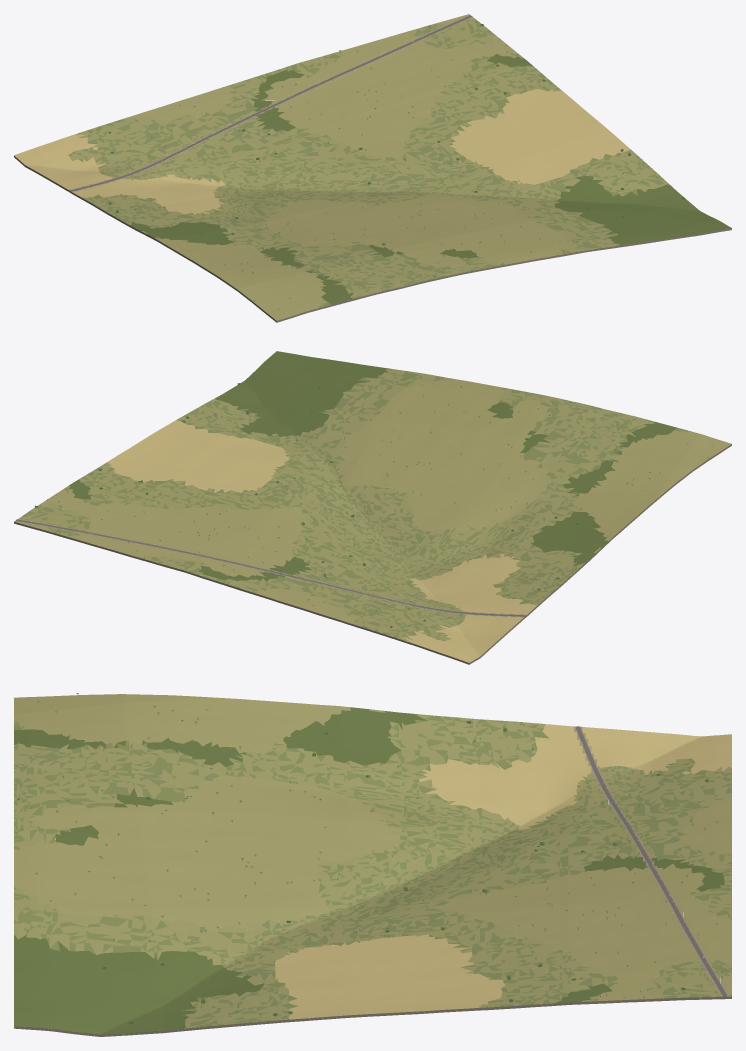
File: parca_-1_-3-yakin.glb
The picture shows the model from 3 angles, top to bottom: view 1: azimuth 30°, elevation 25°; view 2: azimuth 150°, elevation 25°; view 3: azimuth 270°, elevation 25°; orthographic projection. The views are drawn at different scales.
Parts seen in each view (by area): view 1: parca_-1_-3_arazi, parca_-1_-3_yollar, parca_-1_-3_bitkiler; view 2: parca_-1_-3_arazi, parca_-1_-3_yollar, parca_-1_-3_bitkiler; view 3: parca_-1_-3_arazi, parca_-1_-3_yollar, parca_-1_-3_bitkiler.
Part boxes in pixels (<box>): parca_-1_-3_arazi: <box>14,14,731,322</box>; parca_-1_-3_yollar: <box>70,15,472,191</box>; parca_-1_-3_bitkiler: <box>90,24,685,309</box>; parca_-1_-3_arazi: <box>14,351,731,664</box>; parca_-1_-3_yollar: <box>16,519,525,616</box>; parca_-1_-3_bitkiler: <box>34,365,712,635</box>; parca_-1_-3_arazi: <box>14,694,731,1036</box>; parca_-1_-3_yollar: <box>575,726,727,996</box>; parca_-1_-3_bitkiler: <box>17,693,730,1025</box>.
Size of the model in its own units: 1002 by 83.49 by 1000.
